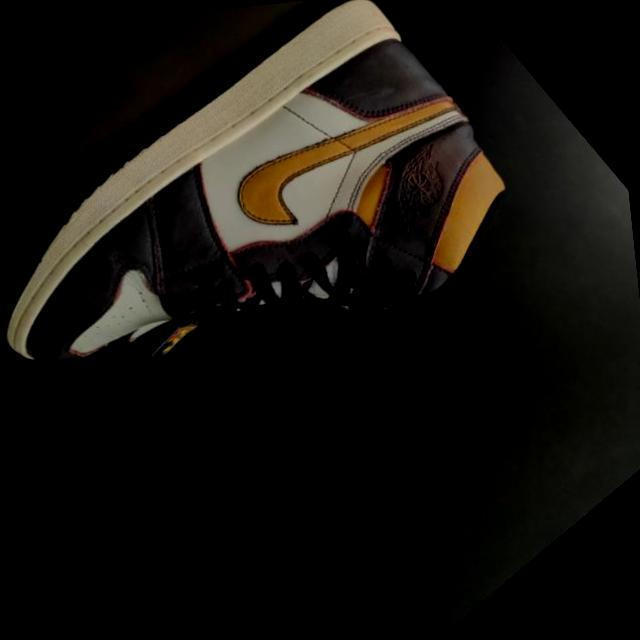nike_fake_jordan: (0, 0, 581, 553)
